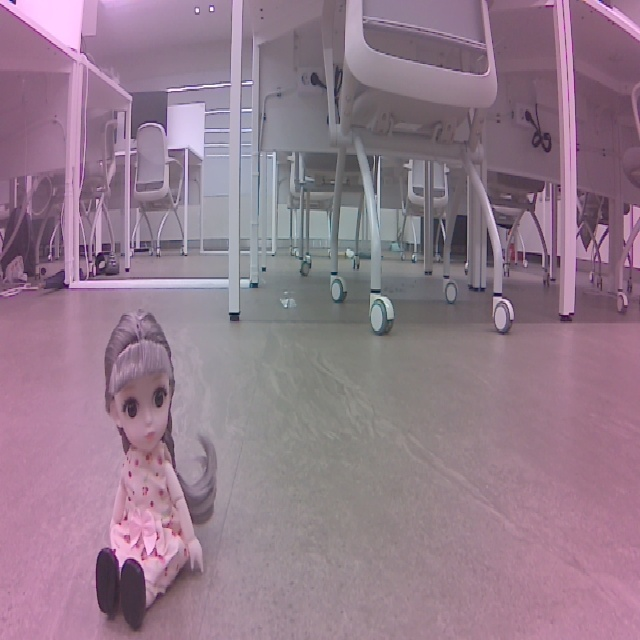장애물: (79, 306, 217, 634)
